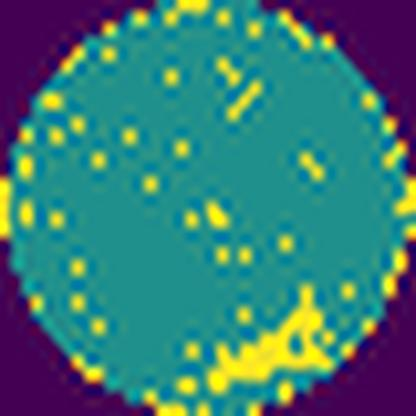Loc: (203, 283, 342, 386)
